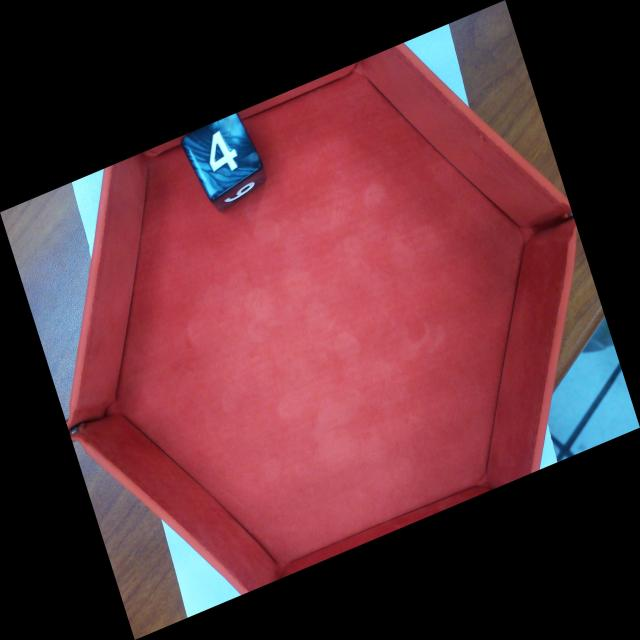dice: (182, 113, 266, 192)
